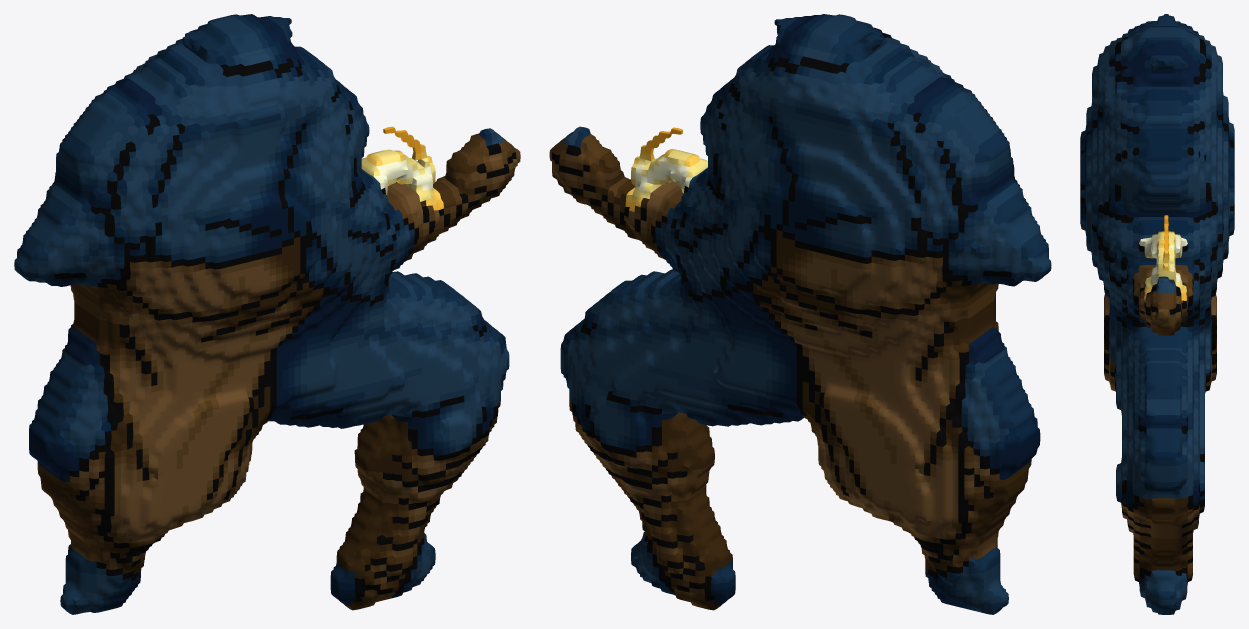
Rendered from Fight_705_2_03.obj.
3 renders of one model, left to right at view 1: azimuth 30°, elevation 25°; view 2: azimuth 150°, elevation 25°; view 3: azimuth 270°, elevation 25°, orthographic. The views are drawn at different scales.
Bounding box in the file's own units: 8.2 × 9.6 × 2.6.
Materials: 1 (1 with a texture image).
